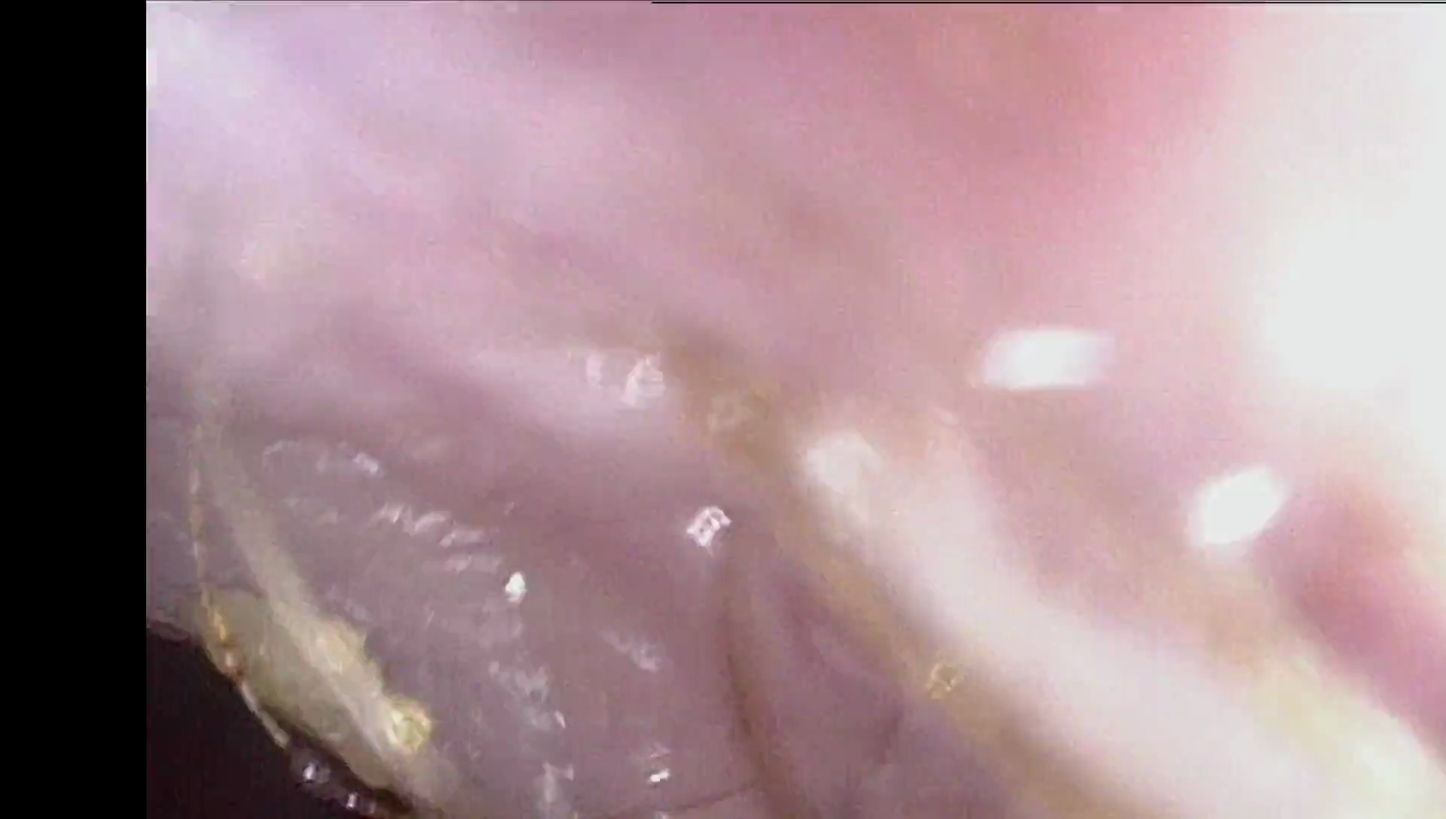close_wall: (1072, 0, 1446, 712), (152, 0, 739, 386)
next: (146, 634, 422, 819)
